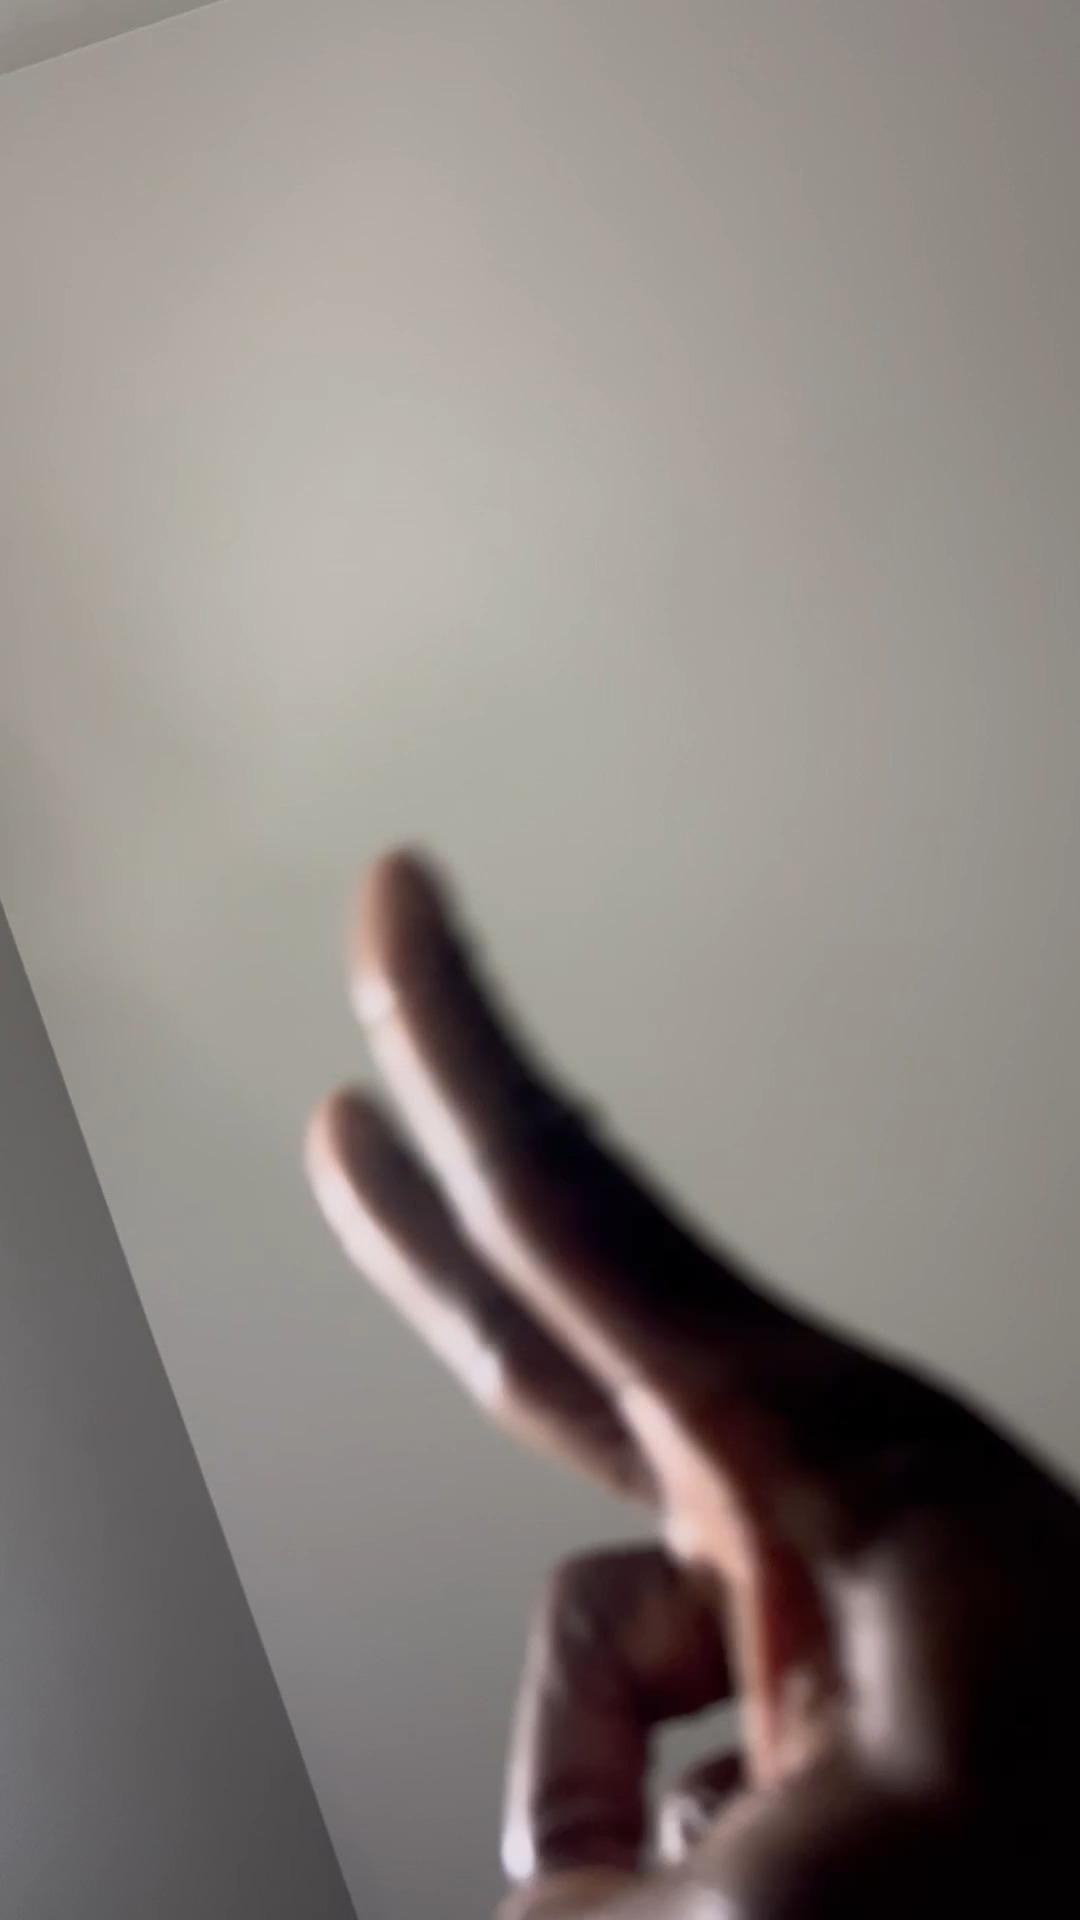Scissors: (300, 837, 1080, 1920)
